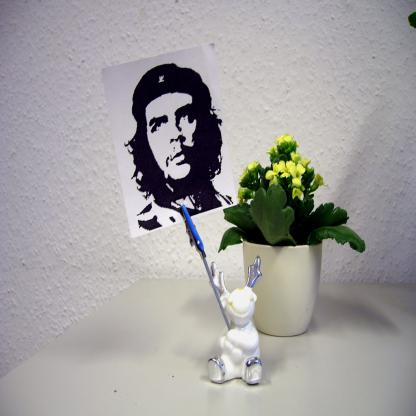vase: (242, 237, 324, 336)
